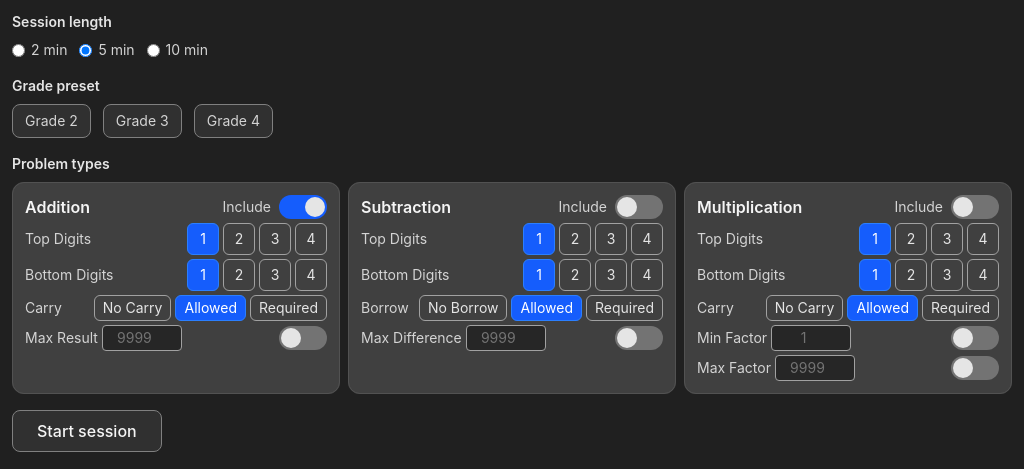
Test: SetupView (MGP6-01) › applies a grade preset, enabling its problem types and seeding their settings
Grade 2 enables addition and subtraction.
Step 1. Click the button "Grade 2" → x=51, y=121, box [12,104,91,138]
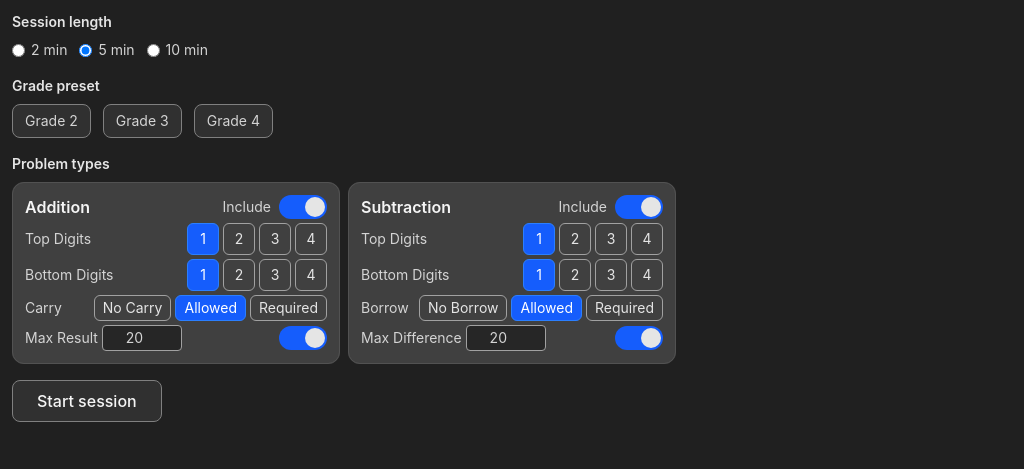
Expected: the switch labelled "Include" next to "Addition" is checked, [223,195,327,219]
Expected: the switch labelled "Include" next to "Subtraction" is checked, [559,195,663,219]
